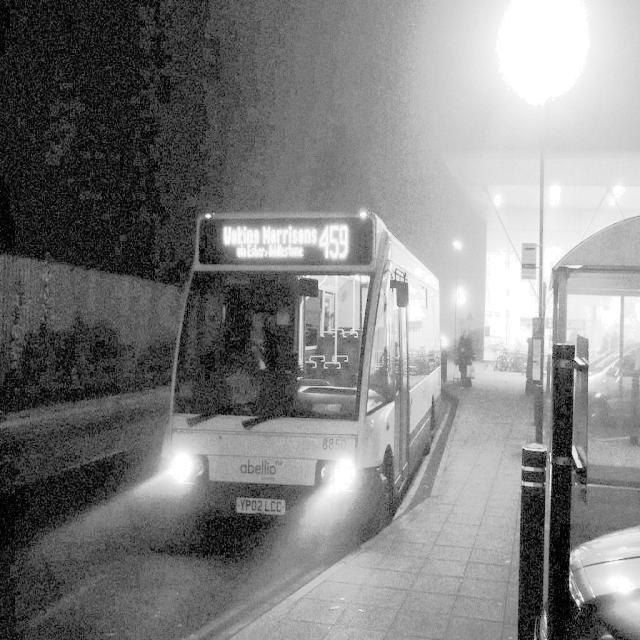Bus: (141, 204, 461, 532)
